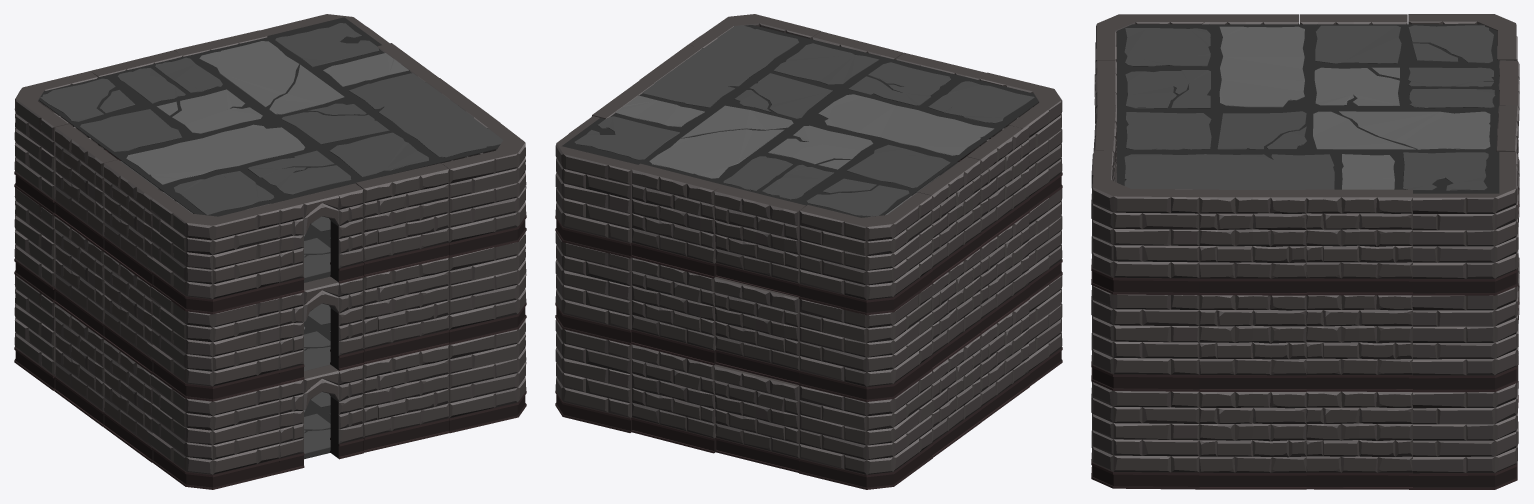
File: skeletontower16.glb
The picture shows the model from 3 angles, left to right: view 1: azimuth 30°, elevation 25°; view 2: azimuth 150°, elevation 25°; view 3: azimuth 270°, elevation 25°; orthographic projection. The views are drawn at different scales.
Parts seen in each view (by area): view 1: FloorSquare_01.003, Module_Stone_Curve_01.010, Module_Stone_Curve_01.002, Module_Stone_Curve_01.006, Module_Stone_Straight_01.014, Module_Stone_Curve_01.011, Module_Stone_Straight_01, Module_Stone_Straight_01.002, Module_Stone_Curve_01.003, Module_Stone_Curve_01.007, Module_Stone_Straight_Door_01.002, Module_Stone_Straight_Door_01 (+18 smaller); view 2: FloorSquare_01.003, Module_Stone_Curve_01.008, Module_Stone_Curve_01, Module_Stone_Curve_01.004, Module_Stone_Straight_01.016, Module_Stone_Straight_01.015, Module_Stone_Curve_01.009, Module_Stone_Straight_01.006, Module_Stone_Straight_01.003, Module_Stone_Straight_01.001, Module_Stone_Straight_01.004, Module_Stone_Curve_01.001 (+15 smaller); view 3: FloorSquare_01.003, Module_Stone_Curve_01.011, Module_Stone_Curve_01.009, Module_Stone_Straight_01.020, Module_Stone_Straight_01.019, Module_Stone_Curve_01.003, Module_Stone_Straight_01.010, Module_Stone_Curve_01.007, Module_Stone_Straight_01.009, Module_Stone_Straight_01.013, Module_Stone_Curve_01.001, Module_Stone_Straight_01.012 (+9 smaller).
Boxes of the visible parts, <box> form: FloorSquare_01.003: <box>38,17,503,216</box>; Module_Stone_Curve_01.010: <box>146,191,280,314</box>; Module_Stone_Curve_01.002: <box>146,374,280,489</box>; Module_Stone_Curve_01.006: <box>146,287,280,401</box>; Module_Stone_Straight_01.014: <box>356,163,449,277</box>; Module_Stone_Curve_01.011: <box>442,113,526,257</box>; Module_Stone_Straight_01: <box>363,345,449,452</box>; Module_Stone_Straight_01.002: <box>363,258,449,364</box>; Module_Stone_Curve_01.003: <box>449,319,526,433</box>; Module_Stone_Curve_01.007: <box>449,232,526,344</box>; Module_Stone_Straight_Door_01.002: <box>272,183,363,298</box>; Module_Stone_Straight_Door_01: <box>279,365,363,473</box>; FloorSquare_01.003: <box>562,25,1038,217</box>; Module_Stone_Curve_01.008: <box>799,192,932,315</box>; Module_Stone_Curve_01: <box>799,371,932,489</box>; Module_Stone_Curve_01.004: <box>799,284,932,401</box>; Module_Stone_Straight_01.016: <box>631,163,721,278</box>; Module_Stone_Straight_01.015: <box>714,184,805,297</box>; Module_Stone_Curve_01.009: <box>555,116,637,258</box>; Module_Stone_Straight_01.006: <box>714,364,799,472</box>; Module_Stone_Straight_01.003: <box>714,277,799,384</box>; Module_Stone_Straight_01.001: <box>631,344,716,453</box>; Module_Stone_Straight_01.004: <box>631,257,716,365</box>; Module_Stone_Curve_01.001: <box>555,319,631,432</box>; FloorSquare_01.003: <box>1117,24,1499,193</box>; Module_Stone_Curve_01.011: <box>1091,150,1199,295</box>; Module_Stone_Curve_01.009: <box>1409,152,1518,295</box>; Module_Stone_Straight_01.020: <box>1199,189,1306,295</box>; Module_Stone_Straight_01.019: <box>1305,189,1412,295</box>; Module_Stone_Curve_01.003: <box>1091,367,1199,489</box>; Module_Stone_Straight_01.010: <box>1199,392,1306,489</box>; Module_Stone_Curve_01.007: <box>1091,271,1199,391</box>; Module_Stone_Straight_01.009: <box>1306,391,1412,489</box>; Module_Stone_Straight_01.013: <box>1199,295,1306,391</box>; Module_Stone_Curve_01.001: <box>1409,383,1518,489</box>; Module_Stone_Straight_01.012: <box>1306,295,1412,391</box>.
Size of what is drawn, in the model's own units: 16.3 by 12.02 by 15.94.
6 materials, 6 textured.
